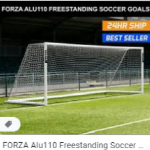goals: (6, 40, 147, 107)
